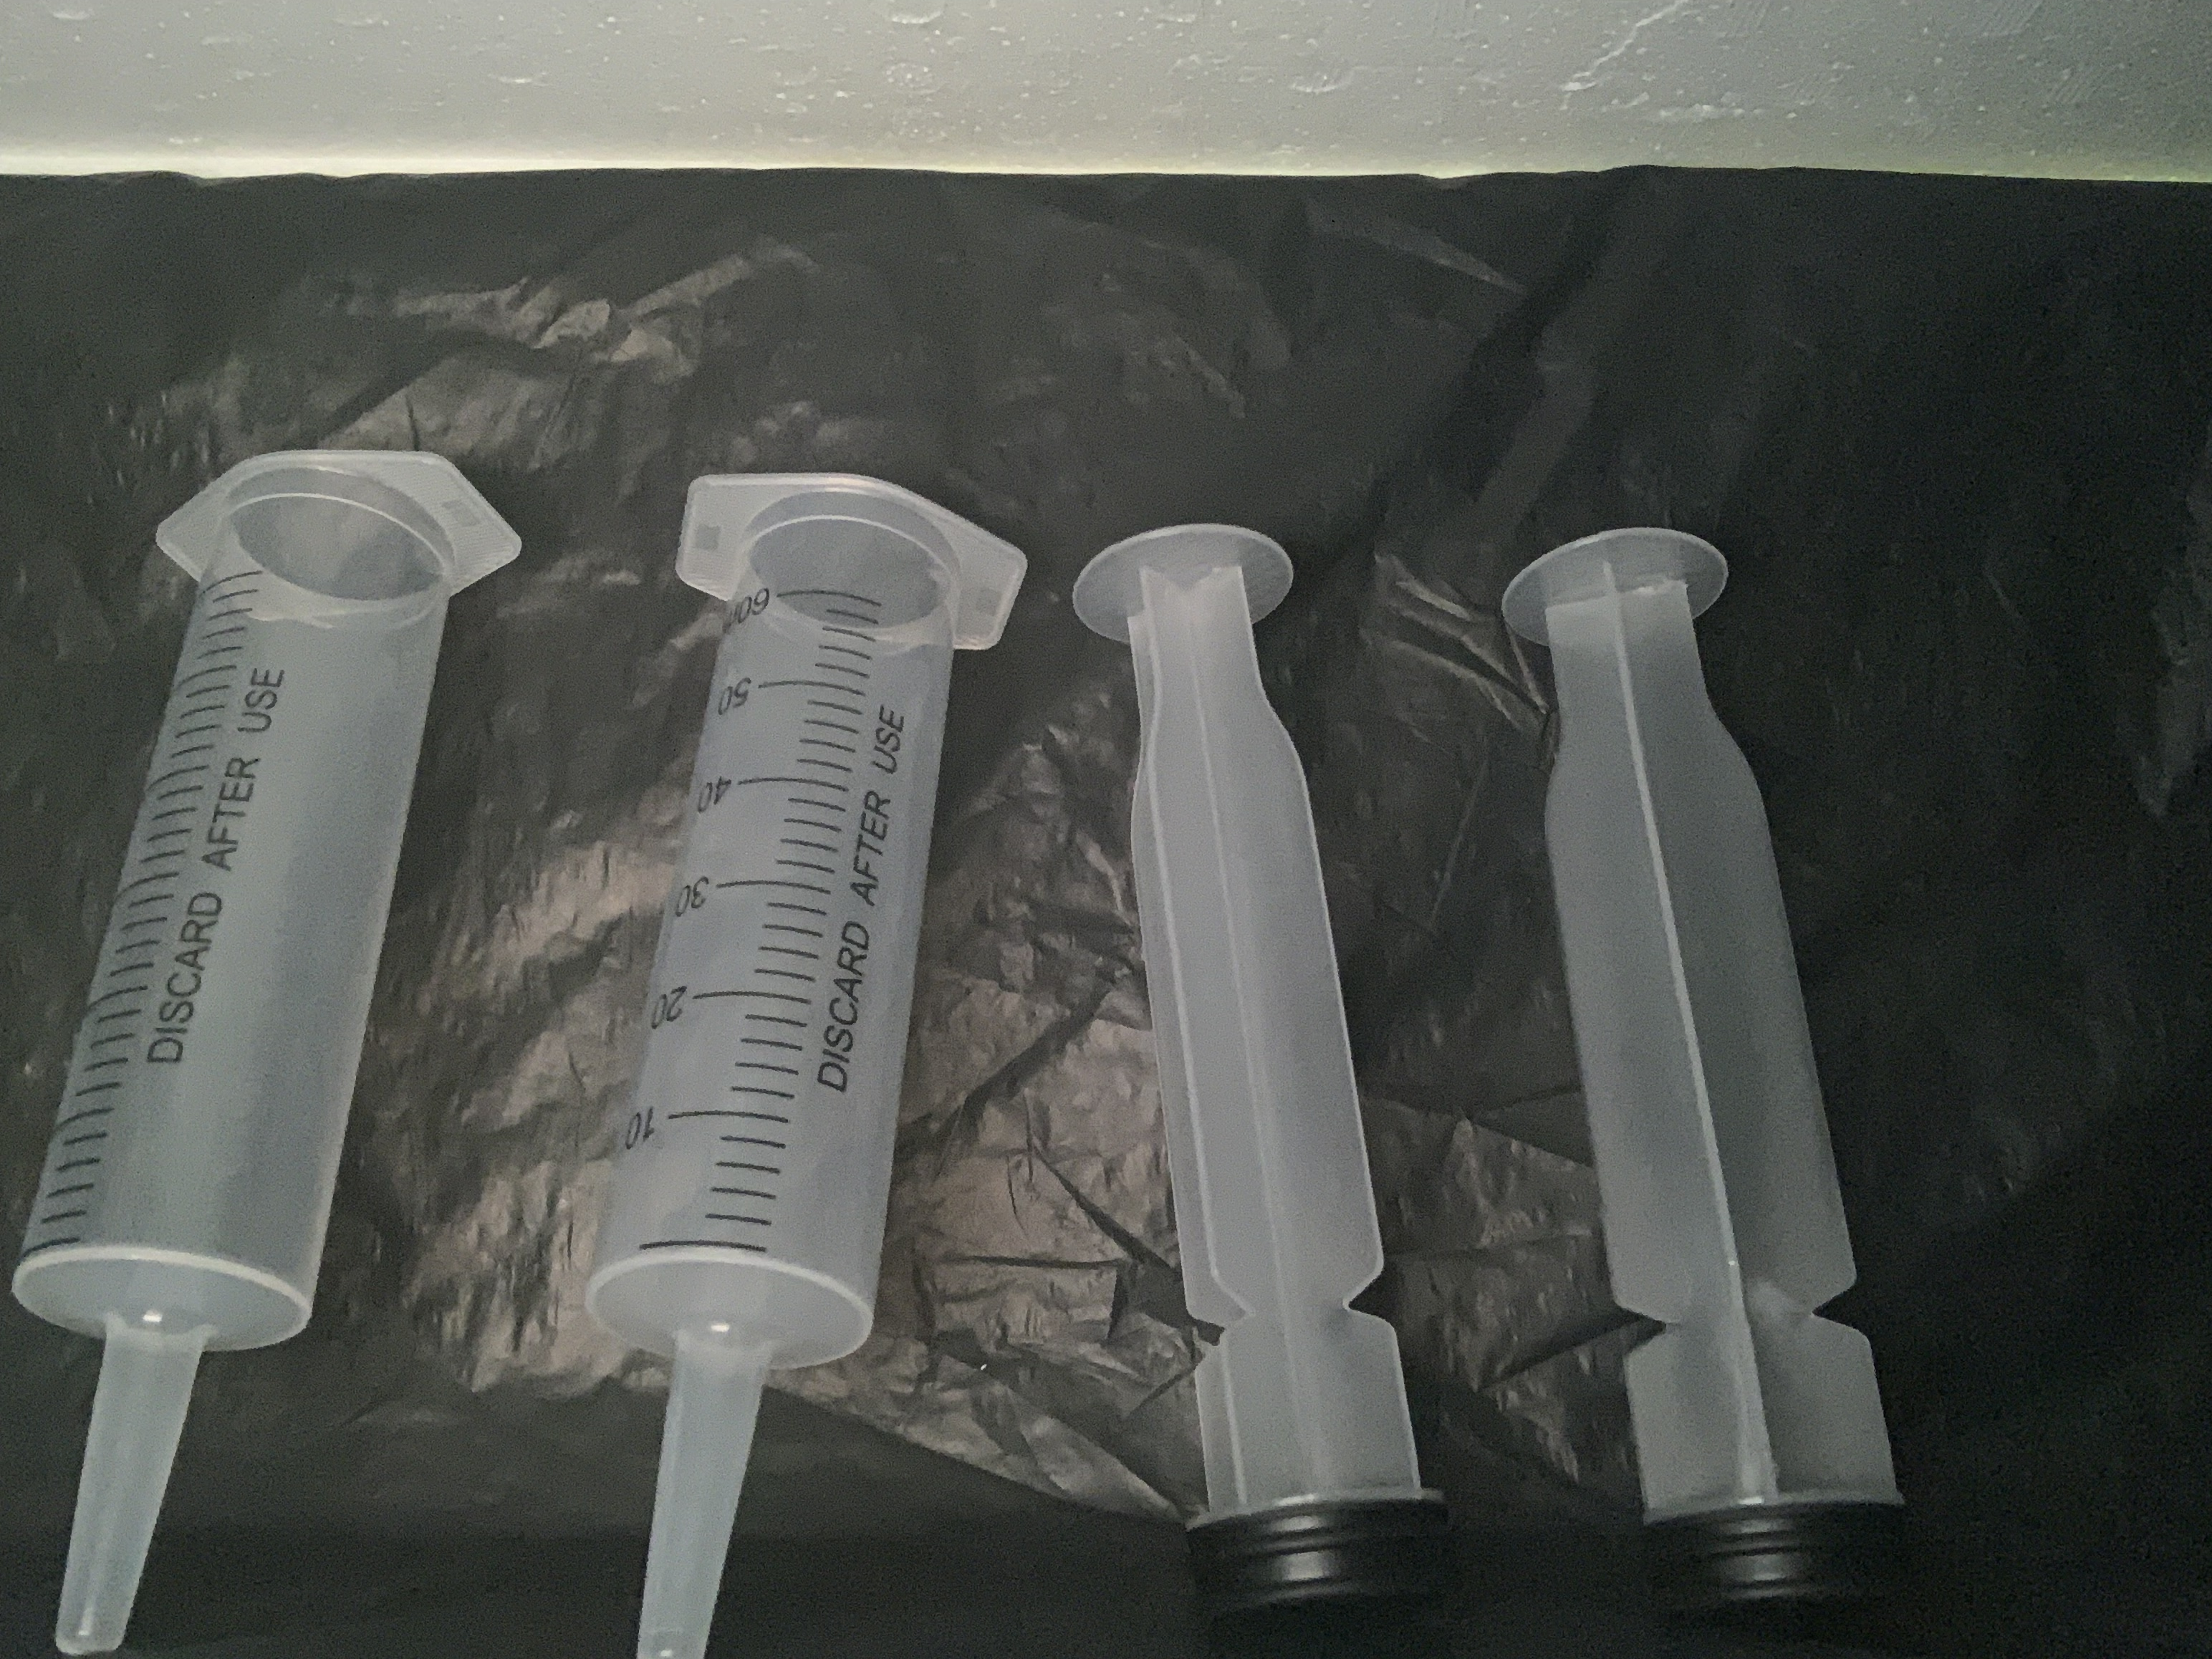plunger: (1491, 518, 1937, 1629), (1062, 521, 1467, 1622)
syringe: (14, 436, 519, 1656), (580, 455, 1028, 1659)
